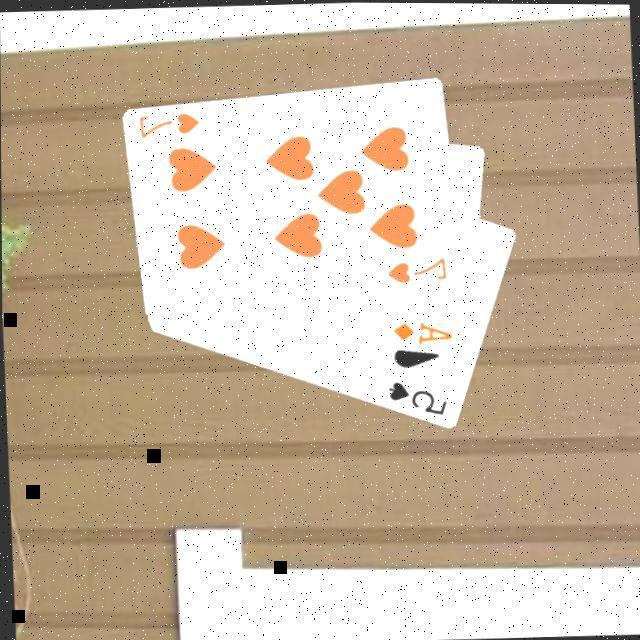5S: (386, 376, 452, 421)
7H: (384, 254, 452, 288), (136, 109, 204, 141)
AD: (391, 318, 456, 349)
